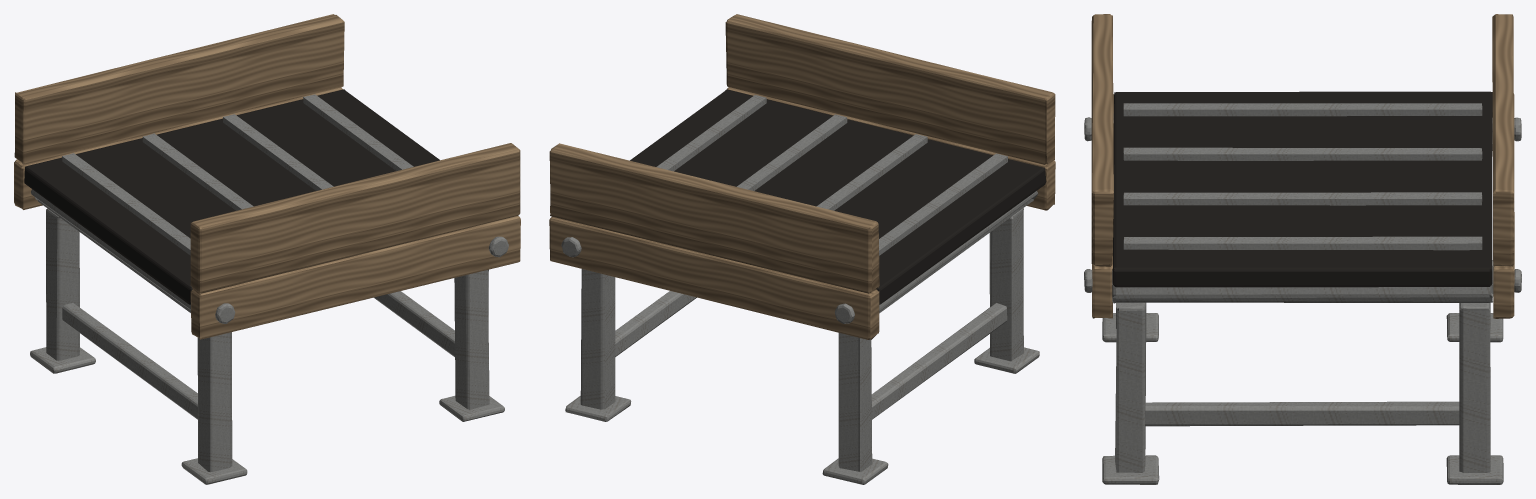
Rendered from conveyor_straight.glb.
3 views of the same model, side by side, from view 1: azimuth 30°, elevation 25°; view 2: azimuth 150°, elevation 25°; view 3: azimuth 270°, elevation 25° (orthographic). The views are drawn at different scales.
Visible parts, largest first — view 1: ConveyorStraight, Belt, Roller; view 2: ConveyorStraight, Belt, Roller; view 3: Belt, ConveyorStraight, Roller2.
Part boxes in pixels (x1,y1,x2,y2): ConveyorStraight: [14, 14, 520, 484]; Belt: [24, 89, 439, 304]; Roller: [31, 189, 190, 312]; ConveyorStraight: [549, 14, 1055, 484]; Belt: [630, 89, 1046, 304]; Roller: [879, 190, 1037, 313]; Belt: [1112, 91, 1492, 287]; ConveyorStraight: [1084, 14, 1521, 484]; Roller2: [1112, 260, 1493, 303].
Size of the model in its own units: 1.69 by 1.33 by 1.74.
Materials: 3 (2 with a texture image).
